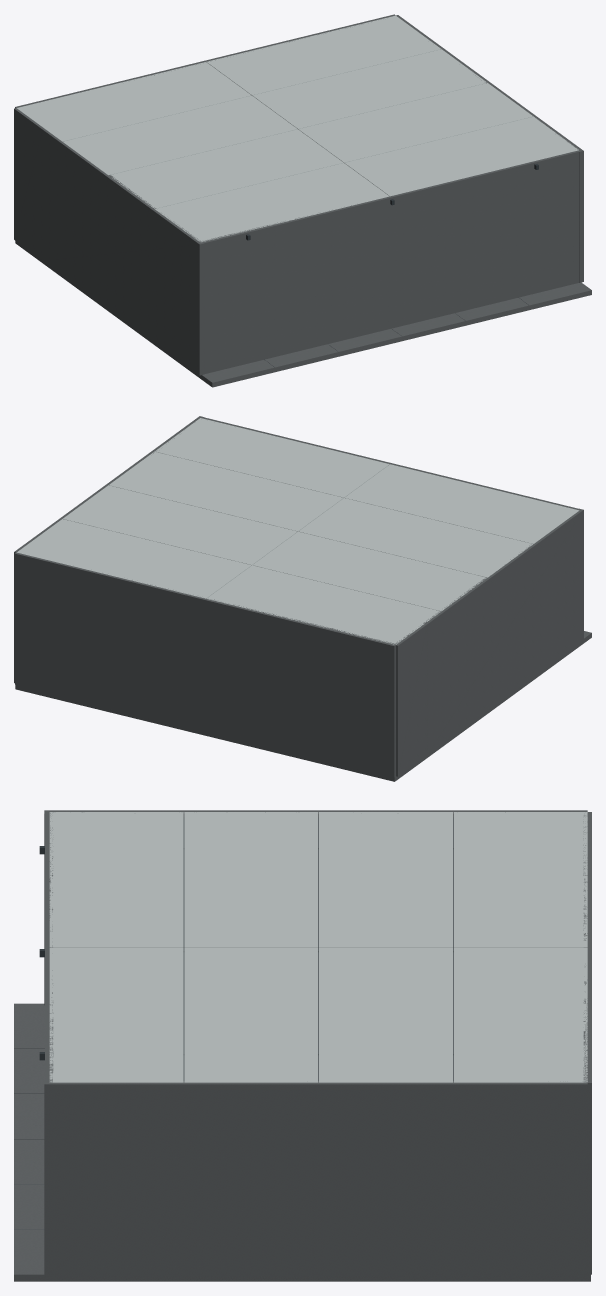
Rendered from tier2.glb.
3 renders of one model, top to bottom at view 1: azimuth 30°, elevation 25°; view 2: azimuth 150°, elevation 25°; view 3: azimuth 270°, elevation 25°, orthographic. The views are drawn at different scales.
Parts seen in each view (by area): view 1: Tier2_Warm_architectural_concrete, Tier2_Pale_ceramic_powdercoat, Tier2_Original_mottled_concrete; view 2: Tier2_Warm_architectural_concrete, Tier2_Pale_ceramic_powdercoat, Tier2_Original_mottled_concrete; view 3: Tier2_Pale_ceramic_powdercoat, Tier2_Warm_architectural_concrete, Tier2_Original_mottled_concrete, Tier2_Graphite_structural_powdercoat.
Part boxes in pixels (x1,y1,x2,y2): Tier2_Warm_architectural_concrete: [14, 14, 583, 375]; Tier2_Pale_ceramic_powdercoat: [17, 15, 578, 242]; Tier2_Original_mottled_concrete: [15, 241, 591, 387]; Tier2_Warm_architectural_concrete: [14, 416, 583, 777]; Tier2_Pale_ceramic_powdercoat: [17, 418, 579, 644]; Tier2_Original_mottled_concrete: [15, 631, 591, 781]; Tier2_Pale_ceramic_powdercoat: [49, 812, 587, 1082]; Tier2_Warm_architectural_concrete: [44, 810, 591, 1276]; Tier2_Original_mottled_concrete: [14, 1003, 590, 1281]; Tier2_Graphite_structural_powdercoat: [39, 817, 453, 1081].
Bounding box in the file's own units: 20.24 × 6.85 × 18.03.
Materials: 21 (4 with a texture image).
